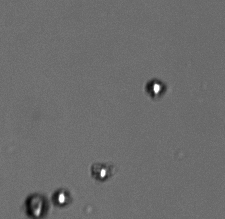Living Cell: (24, 188, 48, 218), (144, 78, 167, 101), (50, 188, 75, 207), (92, 162, 114, 183)
